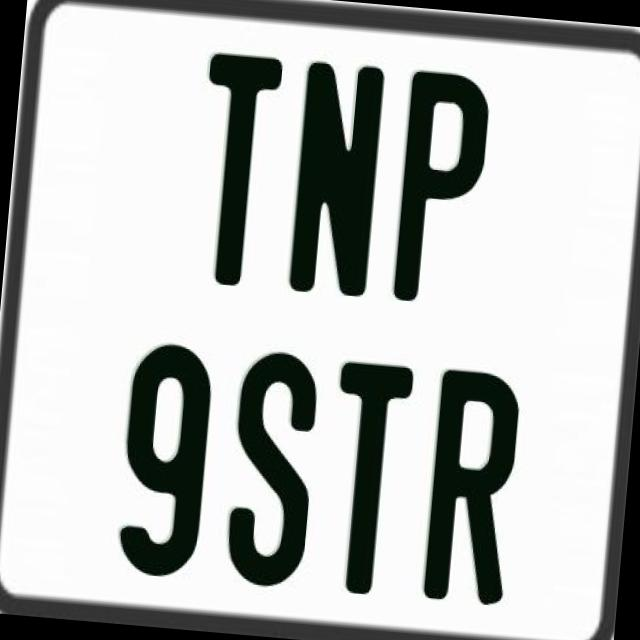9: (110, 340, 217, 582)
N: (284, 55, 382, 296)
P: (390, 66, 493, 308)
R: (421, 370, 522, 616)
S: (220, 345, 326, 587)
T: (318, 357, 416, 598), (189, 52, 281, 294)
